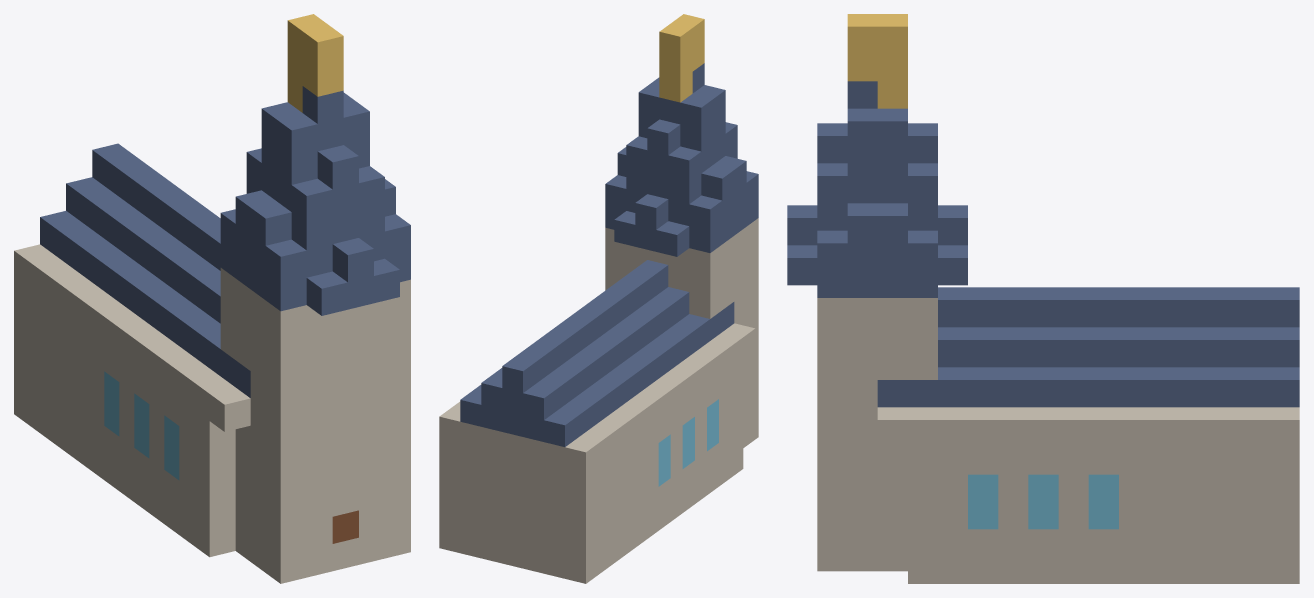
The model's file is church.glb.
The picture shows the model from 3 angles, left to right: view 1: azimuth 30°, elevation 25°; view 2: azimuth 150°, elevation 25°; view 3: azimuth 270°, elevation 25°; orthographic projection. The views are drawn at different scales.
Parts seen in each view (by area): view 1: church_stone, church_roof_slate, church_gold, church_window, church_door; view 2: church_stone, church_roof_slate, church_gold, church_window; view 3: church_stone, church_roof_slate, church_window, church_gold.
Part boxes in pixels (x1,y1,x2,y2): church_stone: (14,244,410,583); church_roof_slate: (40,86,410,397); church_gold: (287,14,343,112); church_window: (104,371,179,480); church_door: (332,510,358,543); church_stone: (439,218,758,583); church_roof_slate: (460,63,758,446); church_gold: (659,14,704,102); church_window: (658,399,718,486); church_stone: (817,298,1299,583); church_roof_slate: (787,81,1299,407); church_window: (968,474,1118,529); church_gold: (847,14,907,108).
Bounding box in the file's own units: 12.67 × 34.39 × 30.77.
